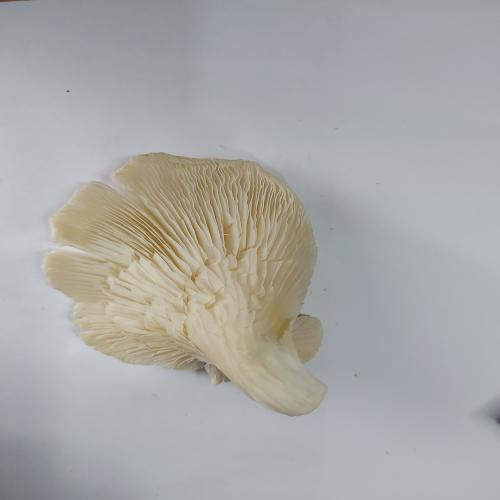Oyster Mushroom: (41, 151, 329, 417)
